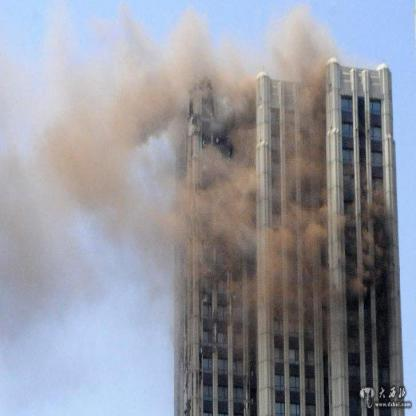smoke: (4, 52, 148, 302), (160, 159, 252, 290), (145, 13, 224, 132), (281, 14, 328, 196), (265, 200, 325, 317), (225, 47, 257, 156)
